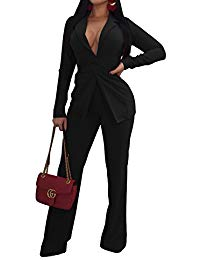feet: (38, 216, 130, 256)
